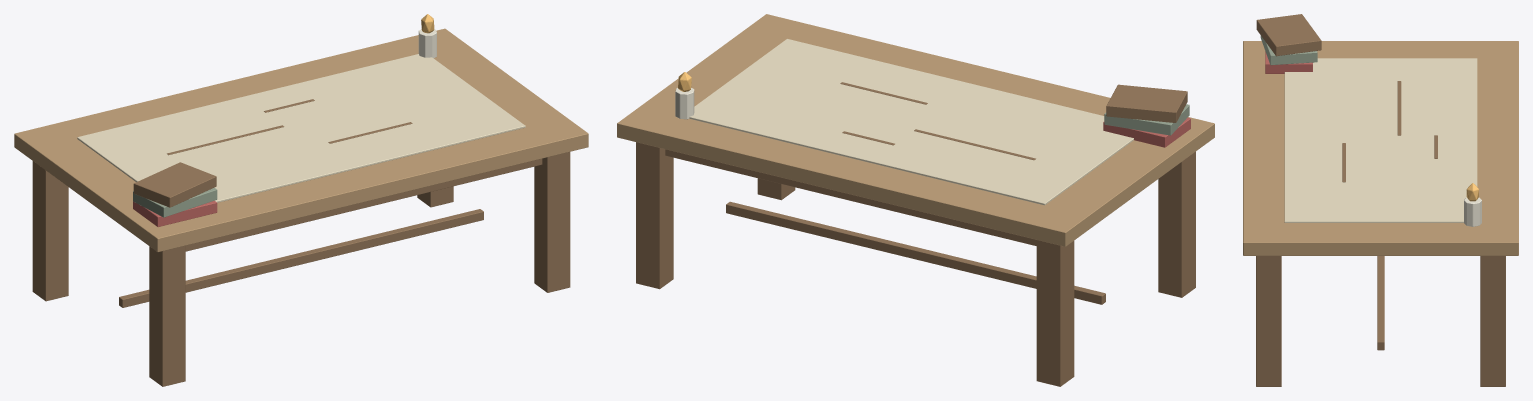
File: HubMapTable.fbx
3 views of the same model, side by side, from view 1: azimuth 30°, elevation 25°; view 2: azimuth 150°, elevation 25°; view 3: azimuth 270°, elevation 25° (orthographic). The views are drawn at different scales.
Parts seen in each view (by area): view 1: HubMapTable; view 2: HubMapTable; view 3: HubMapTable.
Boxes of the visible parts, <box> form: HubMapTable: <box>14,14,588,386</box>; HubMapTable: <box>617,14,1214,386</box>; HubMapTable: <box>1243,14,1518,386</box>.
Bounding box in the file's own units: 2.6 × 1.14 × 1.5.
